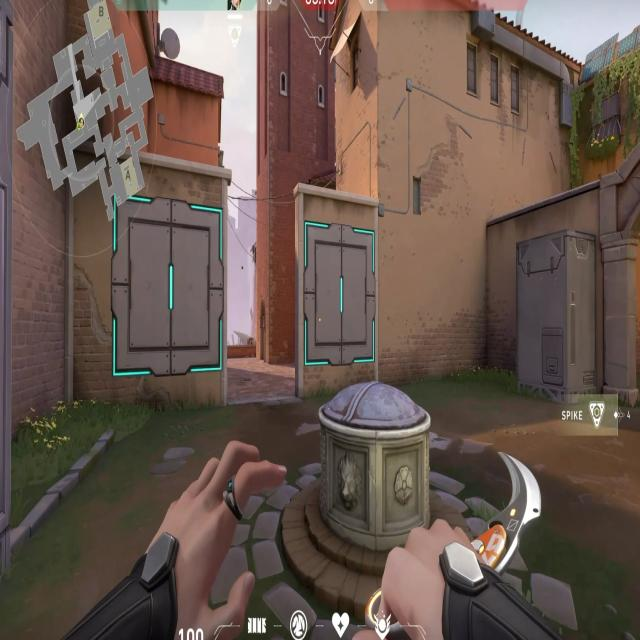Mid_Wall: (65, 140, 231, 409), (292, 179, 383, 396)
